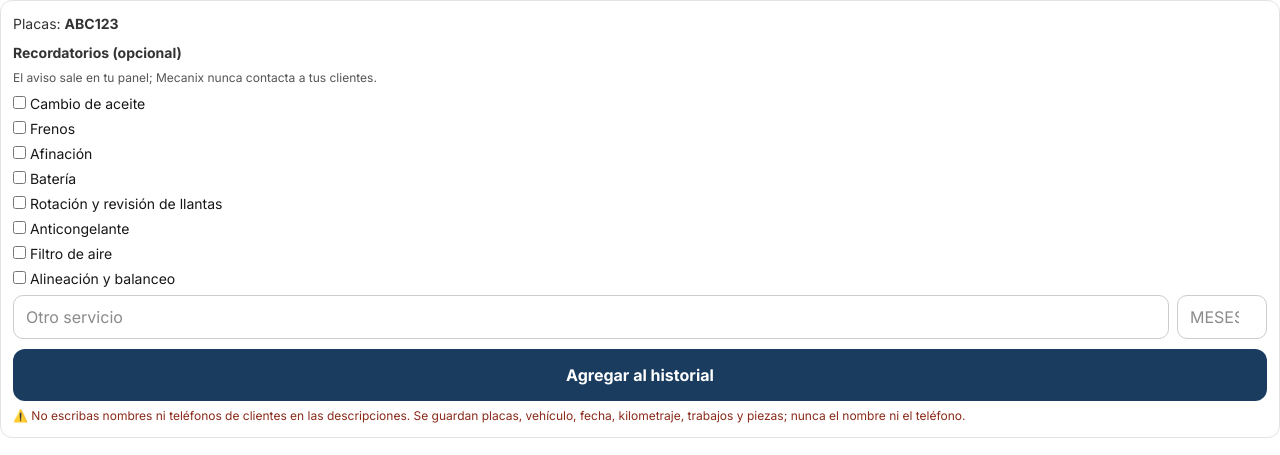
Test: "Agregar al historial" (debajo de "Descargar PDF") › con todo: muestra las placas de la orden y agrega
Check: the text "ABC123" is shown, box [65,15,119,32]
Check: the text "No escribas nombres ni teléfonos de clientes en las descripciones" is shown, box [31,408,407,423]
Click the button "Agregar al historial".
click(640, 375)  # box [13,349,1267,401]
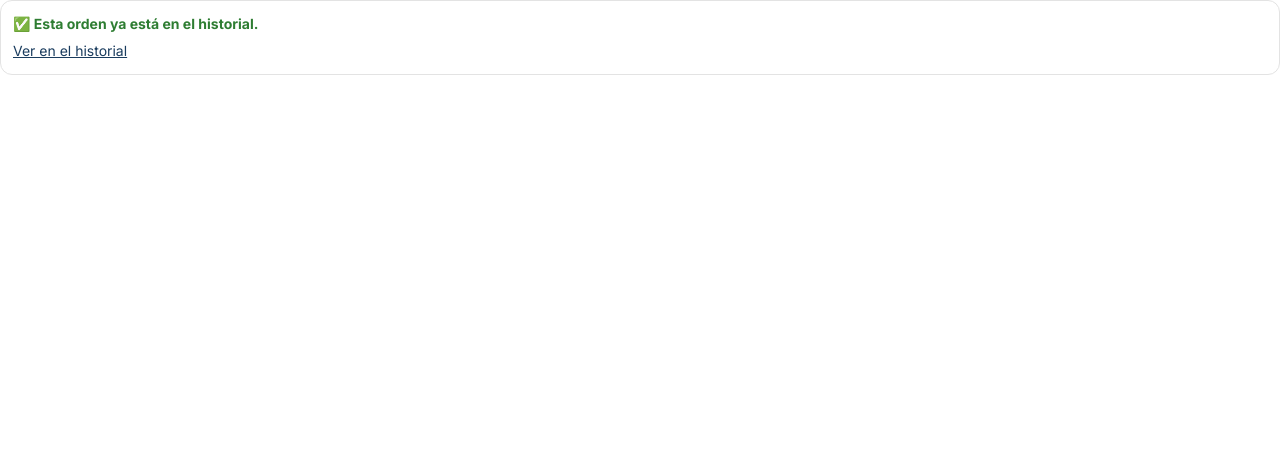
Check: the text "✅ Esta orden ya está en el historial." is shown, box [13,15,258,32]
